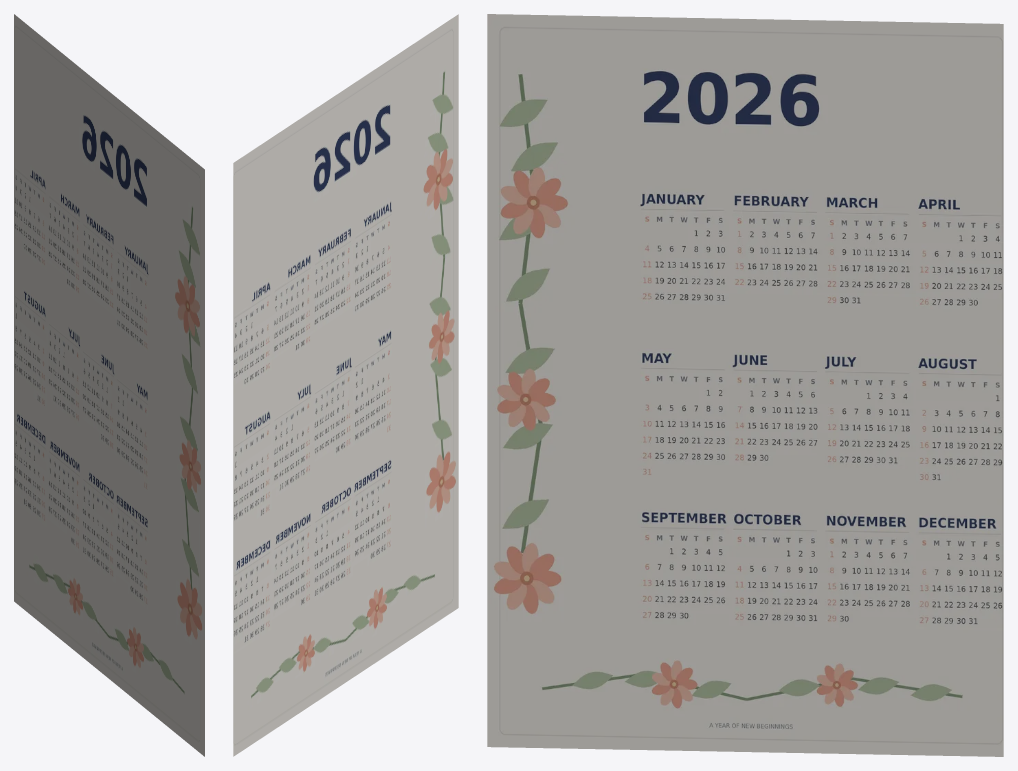
Rendered from 2026-BztLJtuF.glb.
3 views of the same model, side by side, from view 1: azimuth 30°, elevation 25°; view 2: azimuth 150°, elevation 25°; view 3: azimuth 270°, elevation 25° (orthographic). The views are drawn at different scales.
Visible parts, largest first — view 1: StudyShelf_2464; view 2: StudyShelf_2464; view 3: StudyShelf_2464.
Boxes of the visible parts, x1,y1,x2,y2 form: StudyShelf_2464: (14,14,204,756); StudyShelf_2464: (233,14,458,756); StudyShelf_2464: (487,14,1003,756).
Size of the model in its own units: 2.68 by 92.56 by 59.09.
1 material, 1 textured.
